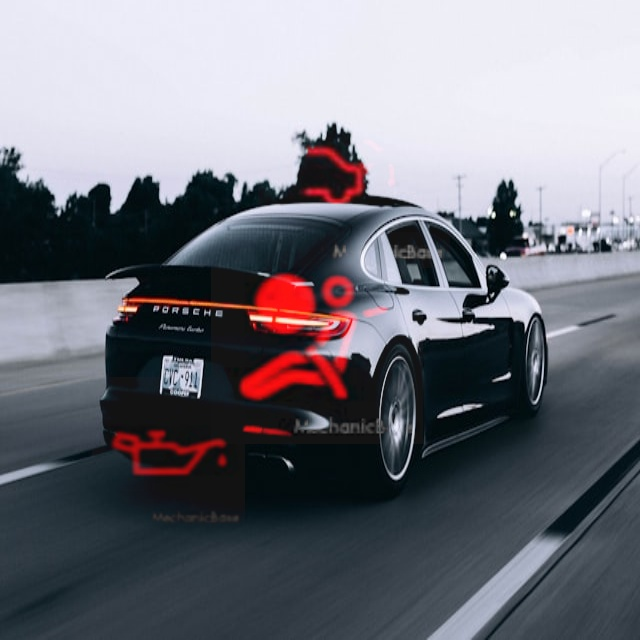symbol: (211, 232, 423, 444), (258, 76, 450, 268), (92, 377, 245, 530)
